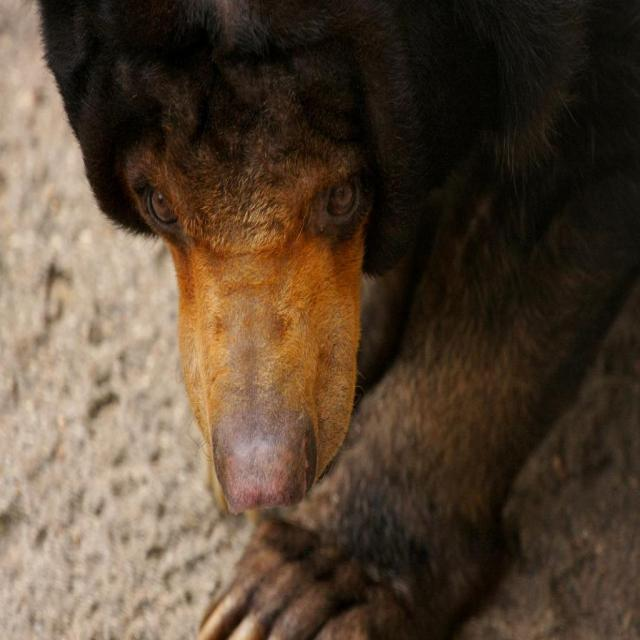Buffalo: (32, 0, 639, 639)
